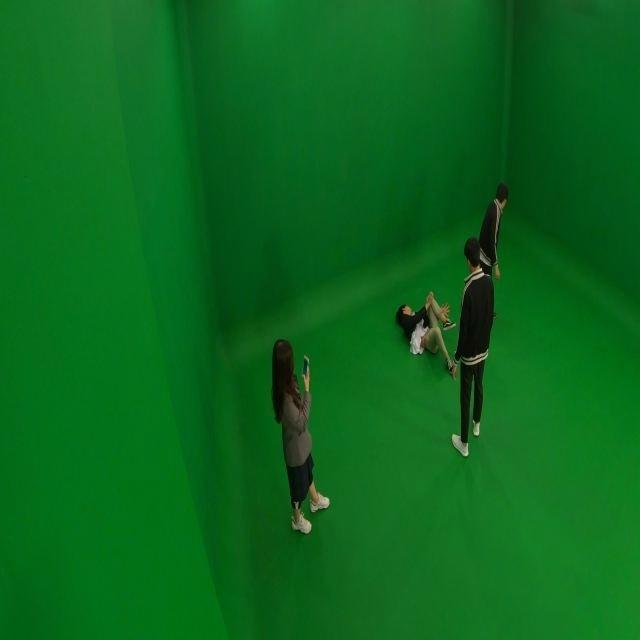fight: (393, 235, 495, 459)
non-fight: (271, 337, 327, 534), (478, 179, 512, 306)
